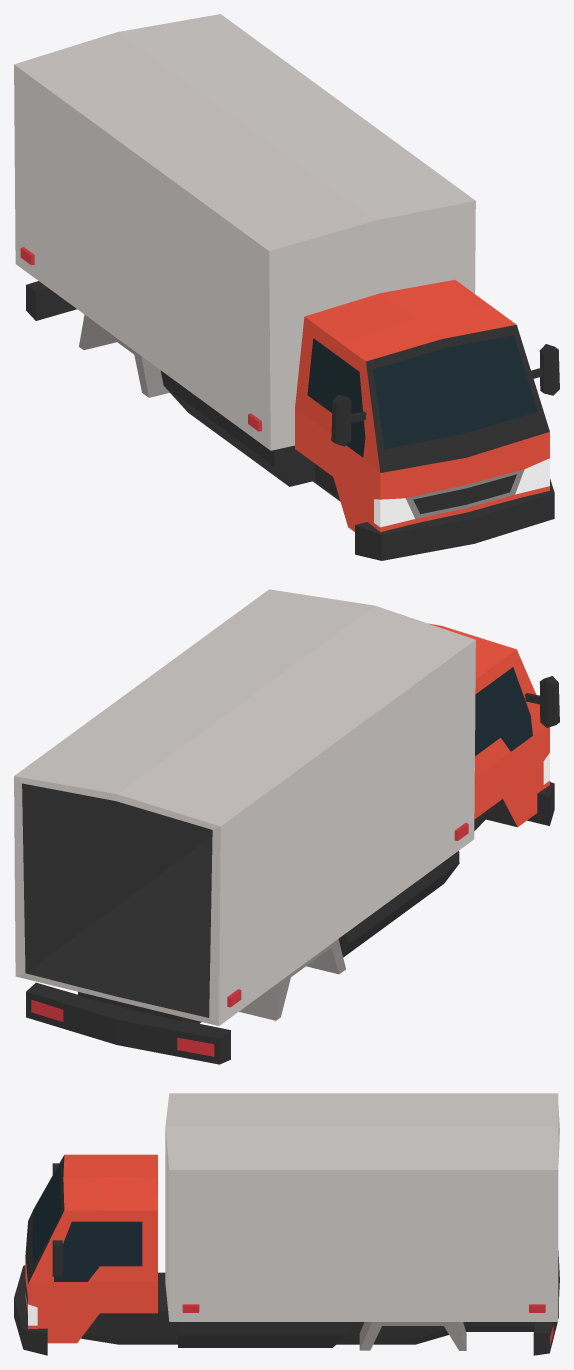
Rendered from truck-base.glb.
3 views of the same model, one above another, from view 1: azimuth 30°, elevation 25°; view 2: azimuth 150°, elevation 25°; view 3: azimuth 270°, elevation 25° (orthographic). The views are drawn at different scales.
Parts seen in each view (by area): view 1: truck-base; view 2: truck-base; view 3: truck-base.
Boxes of the visible parts, bbox=[...] form: truck-base: bbox=[14, 14, 559, 560]; truck-base: bbox=[14, 589, 559, 1064]; truck-base: bbox=[14, 1093, 559, 1355].
Size of the model in its own units: 2.26 by 2.57 by 6.25.
1 material, 1 textured.
